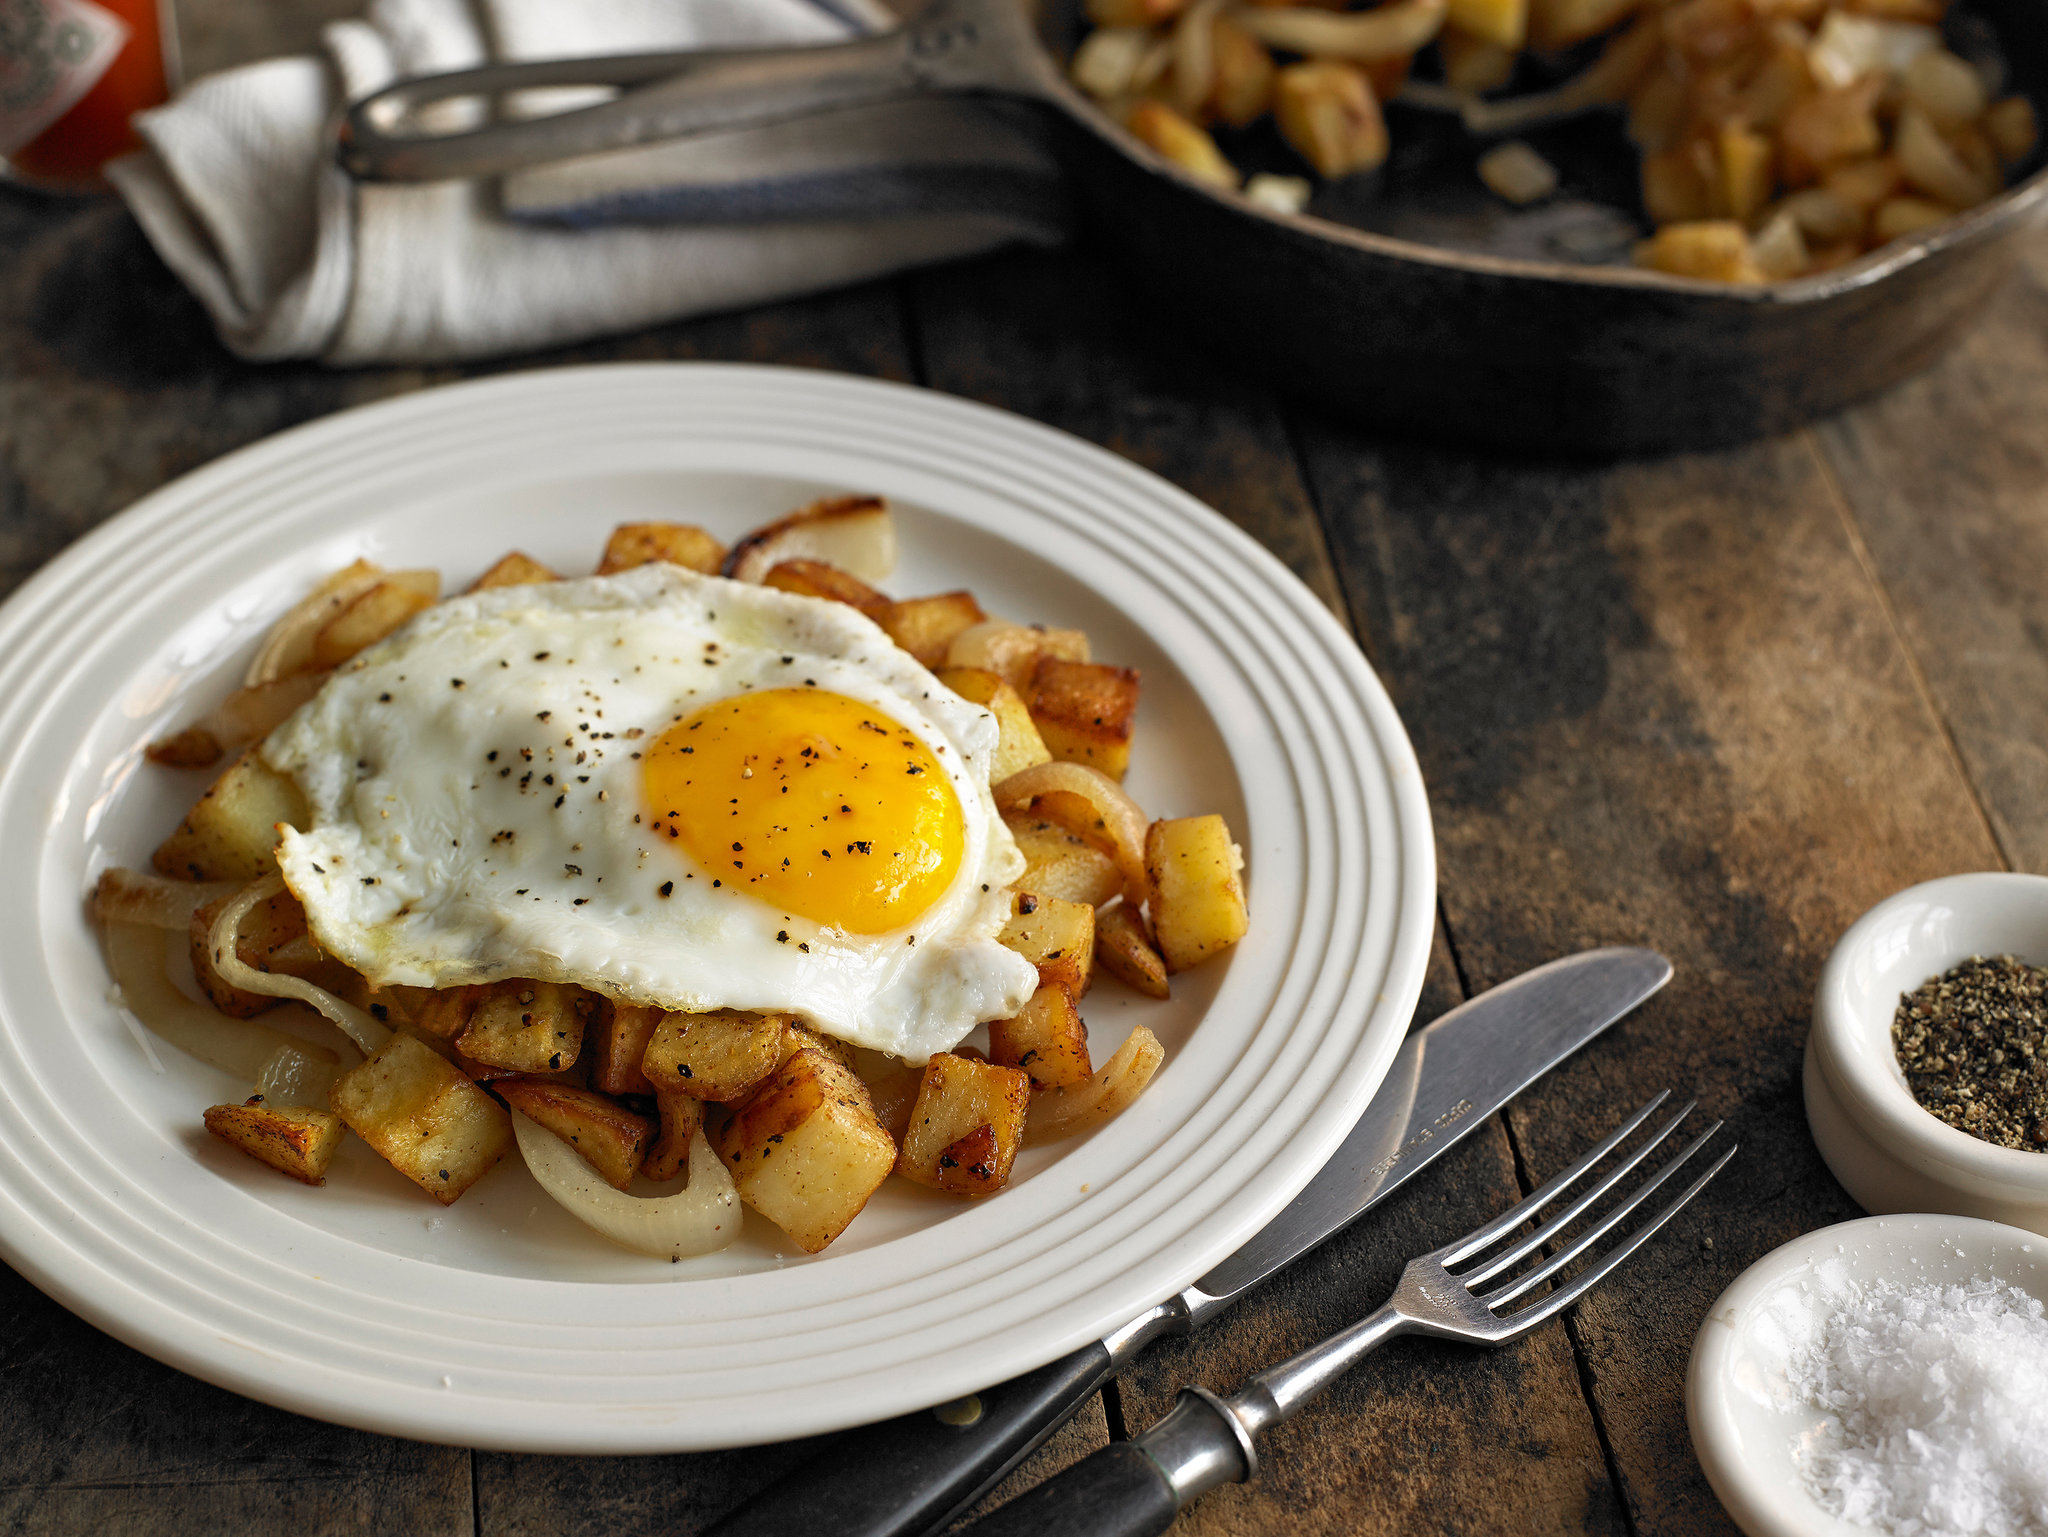fried egg: (316, 593, 1046, 1049)
